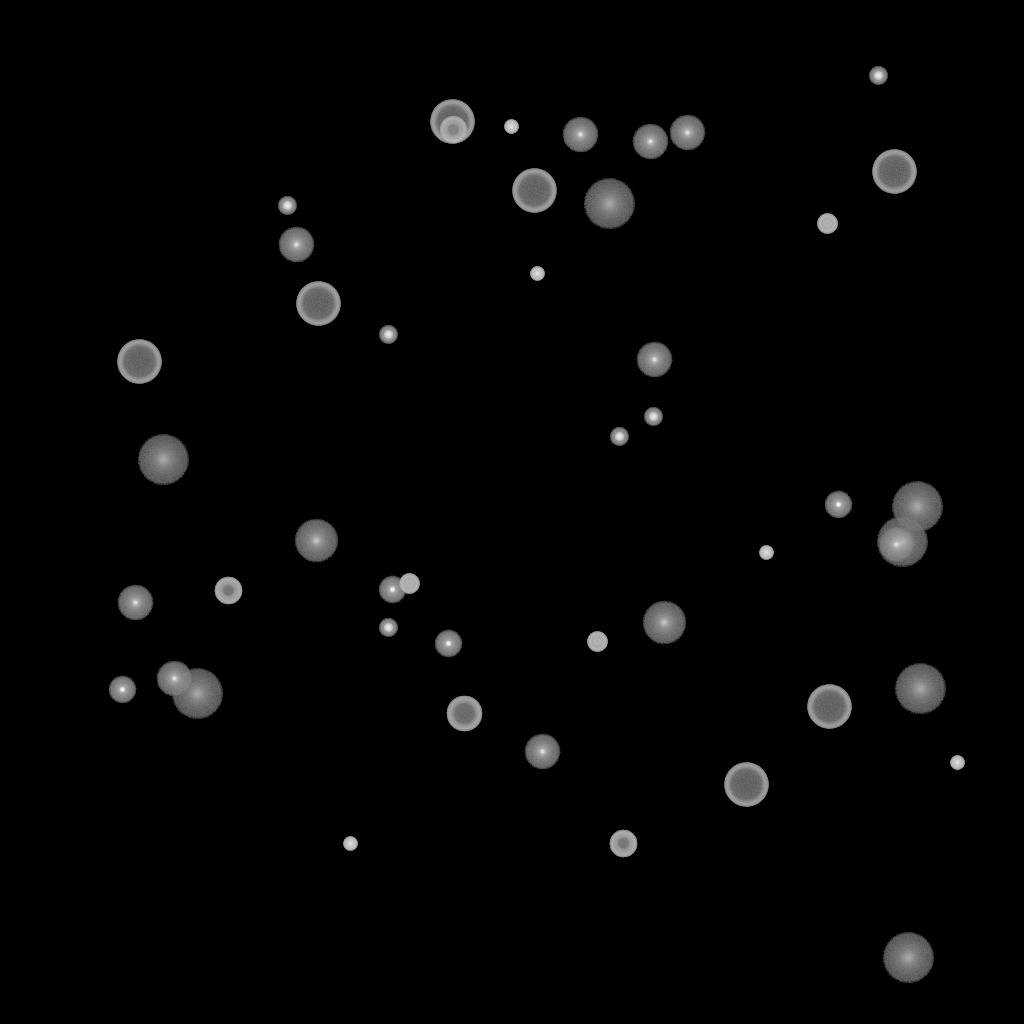depth:-10: (108, 676, 136, 704), (824, 491, 852, 519), (434, 630, 462, 658), (378, 576, 406, 604)
depth:-20: (869, 67, 887, 85), (610, 428, 628, 446), (278, 197, 296, 215), (379, 619, 397, 637), (379, 326, 397, 344), (644, 408, 662, 426)
depth:-30: (530, 267, 544, 281), (950, 756, 964, 770), (759, 546, 773, 560), (343, 837, 357, 851), (504, 120, 518, 134)
depth:-40: (587, 632, 607, 652), (399, 574, 419, 594), (817, 214, 837, 234)
depth:-50: (609, 830, 637, 858), (214, 577, 242, 605), (439, 116, 467, 144)
depth:-60: (446, 696, 482, 732)
depth:-70: (430, 100, 474, 144), (872, 150, 916, 194), (807, 685, 851, 729), (296, 282, 340, 326), (512, 169, 556, 213), (724, 763, 768, 807), (117, 340, 161, 384)
depth:0: (562, 117, 598, 153), (278, 227, 314, 263), (636, 342, 672, 378), (117, 585, 153, 621), (524, 734, 560, 770), (669, 115, 705, 151), (156, 661, 192, 697), (632, 124, 668, 160), (878, 527, 914, 563)
depth:10: (294, 519, 338, 563), (642, 601, 686, 645)
depth:20: (876, 517, 928, 567), (894, 664, 946, 714), (137, 435, 189, 485), (891, 482, 943, 532), (171, 669, 223, 719), (583, 179, 635, 229), (882, 933, 934, 983)
